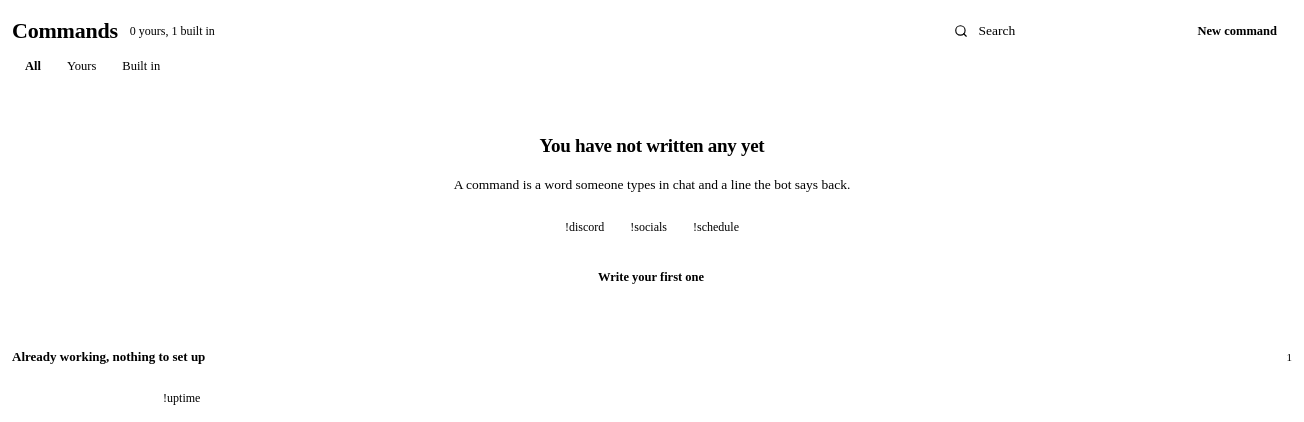
Scenario: Commands › shows the built-ins when asked for them, even with none of your own
Expected: the heading "You have not written any yet" is shown, [540,134,764,158]
What coordinates should you click on to do the following:
click the button "Built in"
I would click on:
 (141, 66)
Its box is [109,51,173,82].
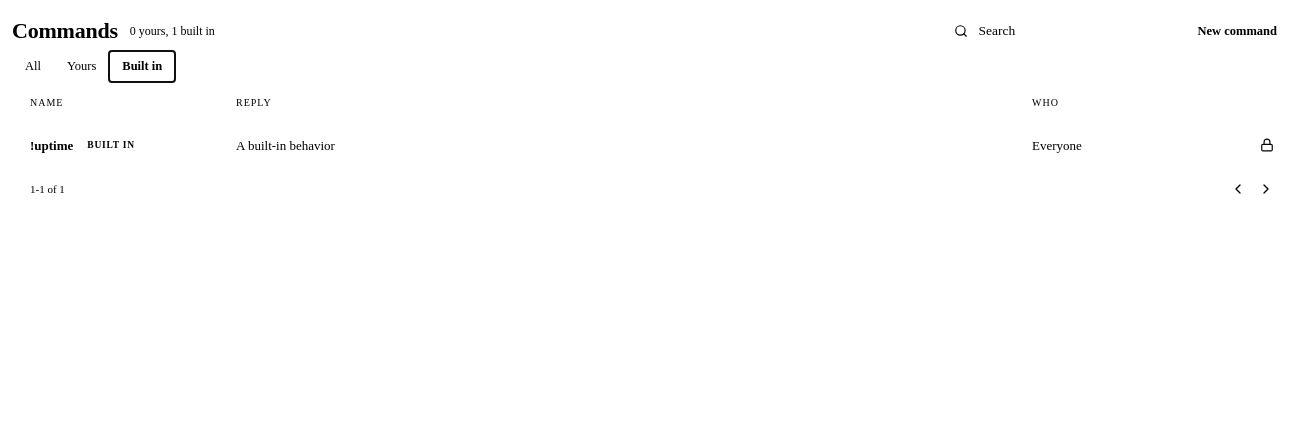
Expected: the text "!uptime" is shown, [30,138,73,152]
Expected: the heading "You have not written any yet" is gone
